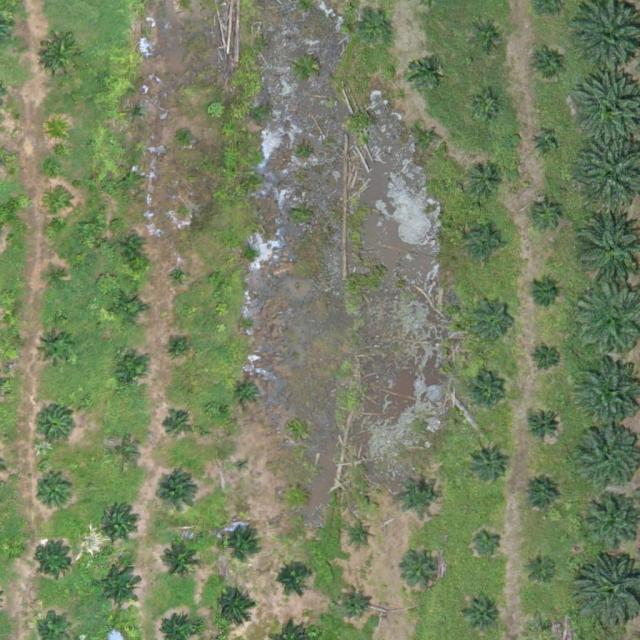Healthy: (578, 424, 640, 487), (584, 497, 639, 552)
Small: (96, 565, 143, 612), (154, 473, 201, 520), (159, 537, 206, 584), (471, 296, 518, 343), (407, 548, 446, 588), (37, 475, 76, 515), (468, 375, 507, 415), (467, 223, 506, 263), (461, 593, 500, 633), (524, 407, 564, 446), (42, 36, 81, 75), (400, 476, 439, 515), (222, 521, 261, 560), (275, 560, 314, 599), (36, 541, 75, 580), (215, 589, 254, 628), (101, 505, 140, 544), (36, 331, 75, 370), (111, 352, 150, 391), (35, 406, 74, 445), (468, 163, 507, 202), (469, 445, 508, 484), (522, 477, 561, 516), (111, 290, 150, 329), (532, 199, 563, 231), (526, 550, 557, 582), (473, 526, 504, 558), (530, 276, 561, 308), (162, 410, 193, 442), (361, 16, 392, 47), (408, 56, 439, 87), (472, 91, 503, 122), (473, 23, 504, 54), (340, 588, 371, 619), (109, 438, 140, 469), (532, 344, 563, 375), (534, 51, 565, 82), (233, 378, 264, 409), (350, 524, 374, 548), (419, 127, 443, 151), (45, 118, 69, 142), (533, 133, 557, 157), (285, 486, 309, 510), (169, 266, 193, 290), (122, 236, 146, 260), (47, 194, 71, 218), (46, 269, 70, 293), (119, 168, 143, 192), (125, 102, 148, 126), (235, 457, 251, 473), (170, 339, 186, 355), (178, 127, 193, 142)
